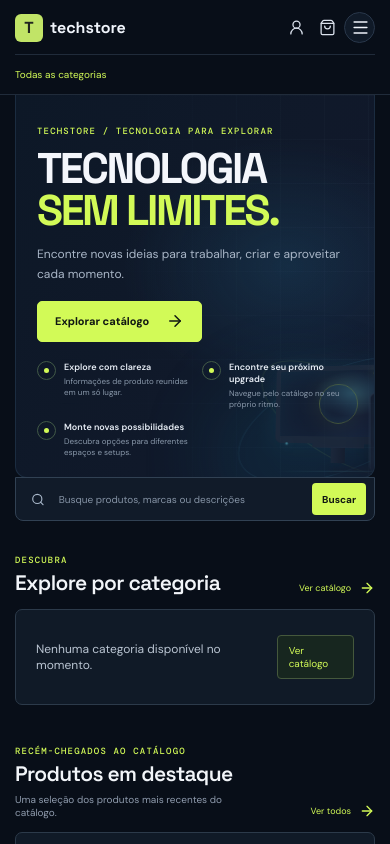
Test: App cart navigation and badge › exposes an accessible responsive menu with working catalog and category navigation
Click the button named "Abrir menu". click: (360, 28)
box: [344,12,375,43]
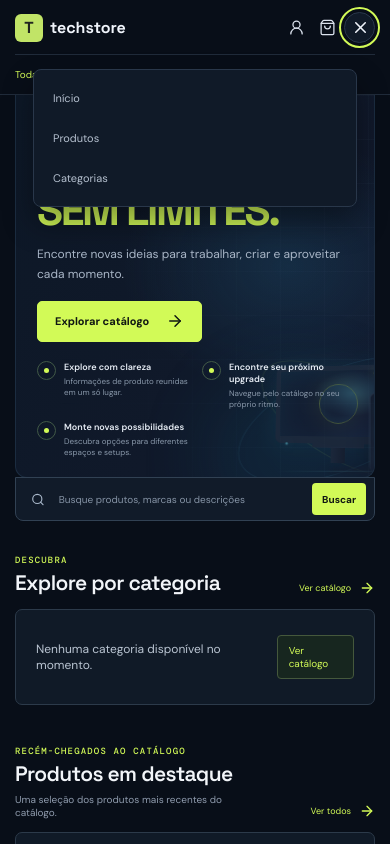
Now the button named "Fechar menu" is expanded, box [344,12,375,43]
Now the navigation bar named "Navegação principal" is shown, box [33,69,357,207]
